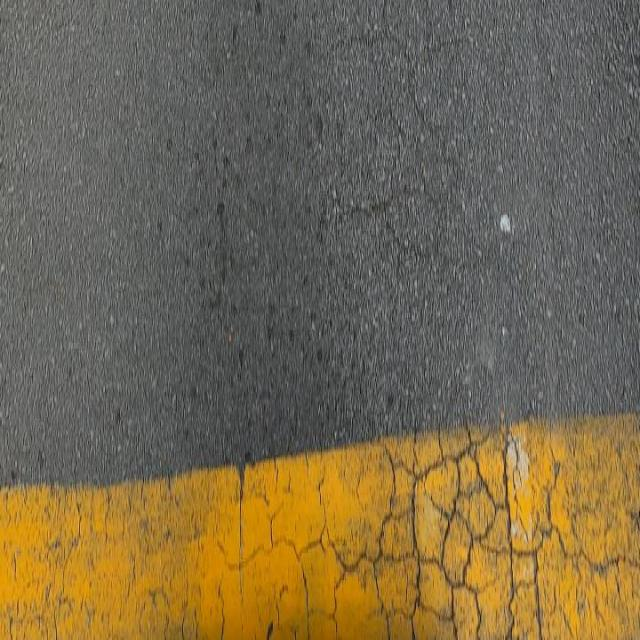cracks: (0, 424, 640, 640)
